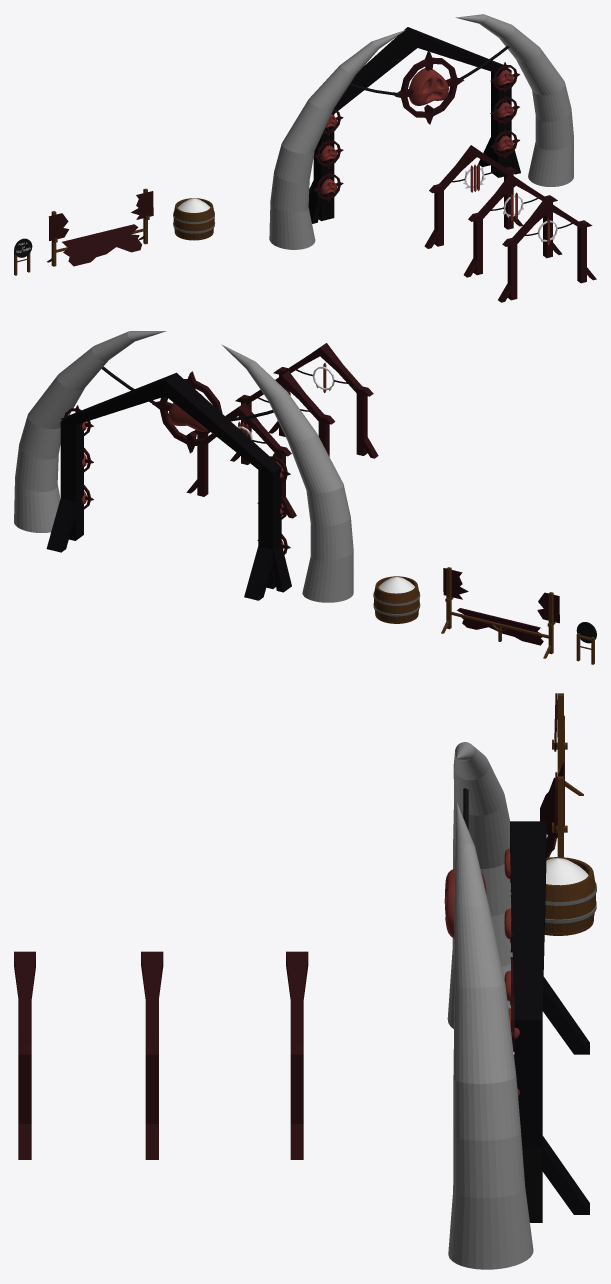
File: Varios.fbx
The picture shows the model from 3 angles, top to bottom: view 1: azimuth 30°, elevation 25°; view 2: azimuth 150°, elevation 25°; view 3: azimuth 270°, elevation 25°; orthographic projection. The views are drawn at different scales.
Visible parts, largest first — view 1: Hueso Grande.047, Arco, Cartel 5 Roto, Simbolo.003, Simbolo grande, Base 1, Base NPC 2, Base NPC 3, Barril Grande, Cartel Salitrera, Simbolo NIVEL 3; view 2: Hueso Grande.047, Arco, Cartel 5 Roto, Base 1, Barril Grande, Base NPC 3, Simbolo grande, Base NPC 2, Simbolo.003, Cartel Salitrera; view 3: Hueso Grande.047, Arco, Barril Grande, Base NPC 3, Base NPC 2, Base 1, Cartel 5 Roto, Simbolo.003.
Part boxes in pixels (x1=…): Hueso Grande.047: x1=269, y1=14, x2=573, y2=249; Arco: x1=308, y1=27, x2=520, y2=223; Cartel 5 Roto: x1=47, y1=188, x2=153, y2=266; Simbolo.003: x1=314, y1=62, x2=519, y2=202; Simbolo grande: x1=394, y1=51, x2=464, y2=124; Base 1: x1=498, y1=199, x2=596, y2=302; Base NPC 2: x1=463, y1=173, x2=562, y2=277; Base NPC 3: x1=424, y1=145, x2=522, y2=248; Barril Grande: x1=173, y1=198, x2=214, y2=240; Cartel Salitrera: x1=14, y1=238, x2=32, y2=275; Simbolo NIVEL 3: x1=452, y1=163, x2=498, y2=192; Hueso Grande.047: x1=14, y1=331, x2=353, y2=602; Arco: x1=46, y1=372, x2=291, y2=600; Cartel 5 Roto: x1=441, y1=567, x2=559, y2=658; Base 1: x1=268, y1=343, x2=378, y2=458; Barril Grande: x1=373, y1=576, x2=420, y2=623; Base NPC 3: x1=186, y1=403, x2=296, y2=518; Simbolo grande: x1=152, y1=371, x2=222, y2=453; Base NPC 2: x1=230, y1=371, x2=335, y2=464; Simbolo.003: x1=61, y1=405, x2=290, y2=554; Cartel Salitrera: x1=576, y1=622, x2=596, y2=664; Hueso Grande.047: x1=447, y1=742, x2=533, y2=1269; Arco: x1=510, y1=821, x2=589, y2=1222; Barril Grande: x1=544, y1=857, x2=596, y2=935; Base NPC 3: x1=286, y1=951, x2=308, y2=1159; Base NPC 2: x1=141, y1=951, x2=163, y2=1159; Base 1: x1=14, y1=951, x2=35, y2=1159; Cartel 5 Roto: x1=540, y1=693, x2=583, y2=857; Simbolo.003: x1=504, y1=848, x2=519, y2=1096.
Bounding box in the file's own units: 17351 × 5920 × 8774.
